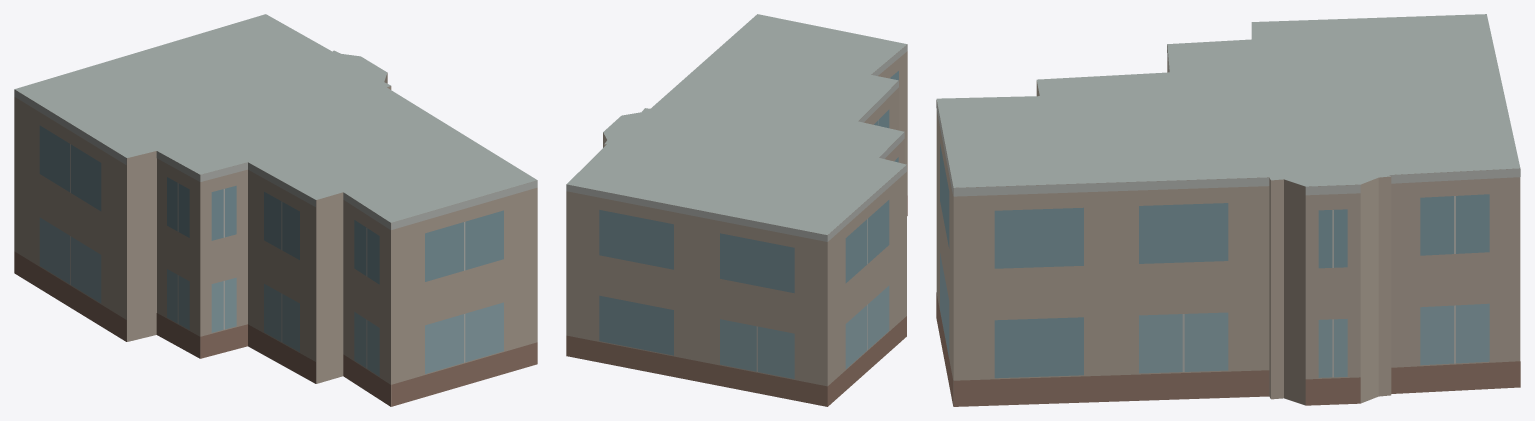
File: survey-upis-32623891.glb
The picture shows the model from 3 angles, left to right: view 1: azimuth 30°, elevation 25°; view 2: azimuth 150°, elevation 25°; view 3: azimuth 270°, elevation 25°; orthographic projection. The views are drawn at different scales.
Parts seen in each view (by area): view 1: survey-upis-32623891.tmp; view 2: survey-upis-32623891.tmp; view 3: survey-upis-32623891.tmp.
Boxes of the visible parts, x1,y1,x2,y2 form: survey-upis-32623891.tmp: [14, 14, 537, 406]; survey-upis-32623891.tmp: [566, 14, 907, 406]; survey-upis-32623891.tmp: [936, 14, 1520, 406].
Size of the model in its own units: 10.39 by 6.1 by 14.75.
